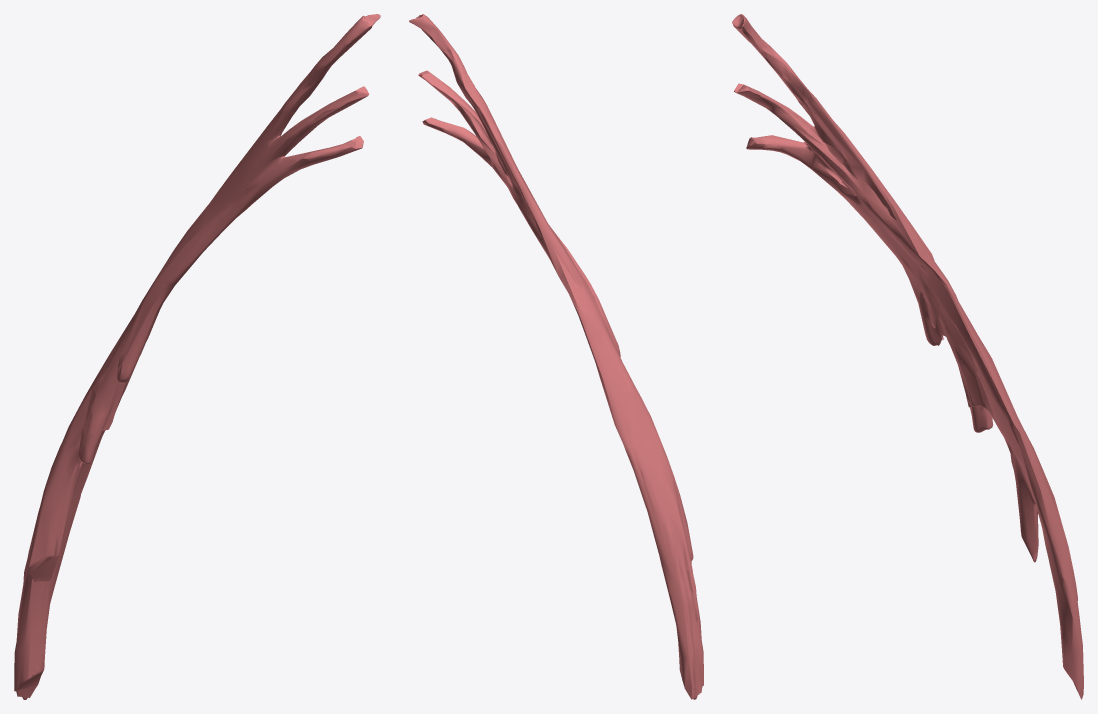
3 renders of one model, left to right at view 1: azimuth 30°, elevation 25°; view 2: azimuth 210°, elevation 25°; view 3: azimuth 270°, elevation 25°, orthographic. The views are drawn at different scales.
Visible parts, largest first — view 1: FJ1526; view 2: FJ1526; view 3: FJ1526.
Boxes of the visible parts, left/top/right/bottom form: FJ1526: left=14, top=14, right=380, bottom=699; FJ1526: left=409, top=14, right=703, bottom=699; FJ1526: left=732, top=14, right=1083, bottom=699.
Size of the model in its own units: 0.0509 by 0.179 by 0.0745.
